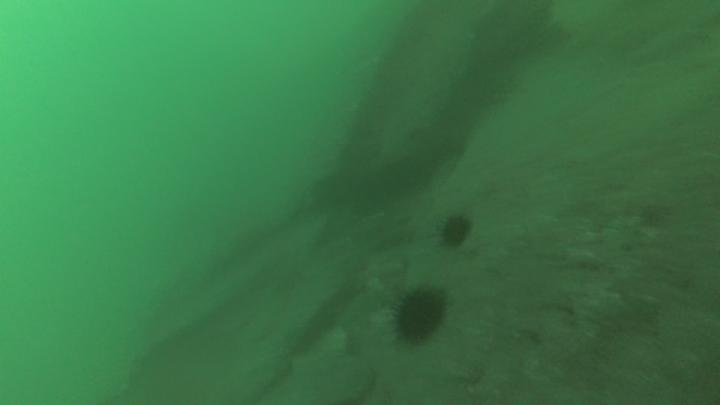echinus: (388, 283, 451, 347), (436, 211, 475, 251)
